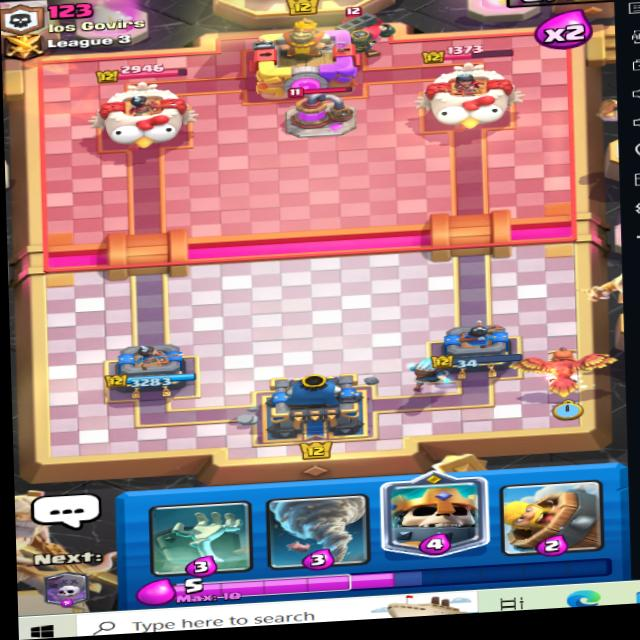elixir-collector: (271, 82, 370, 145)
skeleton-king: (324, 4, 412, 66)
